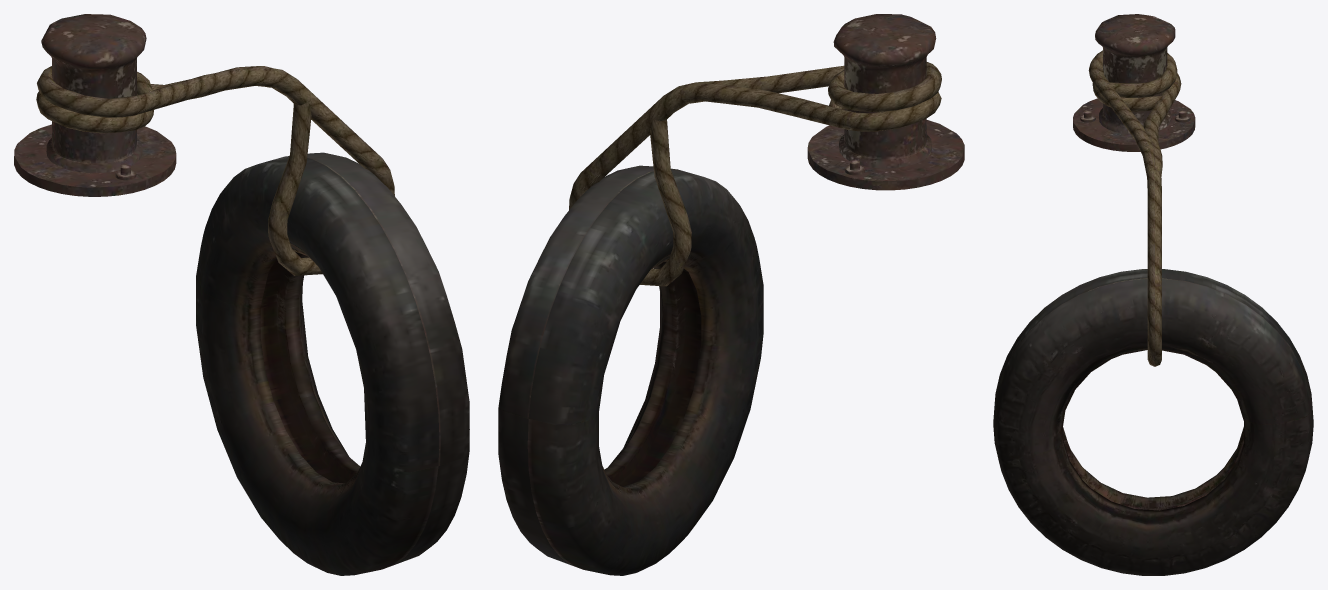
The model's file is floatingcity_fender_b.glb.
3 views of the same model, side by side, from view 1: azimuth 30°, elevation 25°; view 2: azimuth 150°, elevation 25°; view 3: azimuth 270°, elevation 25° (orthographic). The views are drawn at different scales.
Parts seen in each view (by area): view 1: FloatingCity_Fender_b; view 2: FloatingCity_Fender_b; view 3: FloatingCity_Fender_b.
Boxes of the visible parts, x1,y1,x2,y2 form: FloatingCity_Fender_b: [14, 14, 469, 575]; FloatingCity_Fender_b: [498, 14, 964, 575]; FloatingCity_Fender_b: [993, 14, 1313, 575].
Bounding box in the file's own units: 1.56 × 2.3 × 1.49.
1 material, 1 textured.
